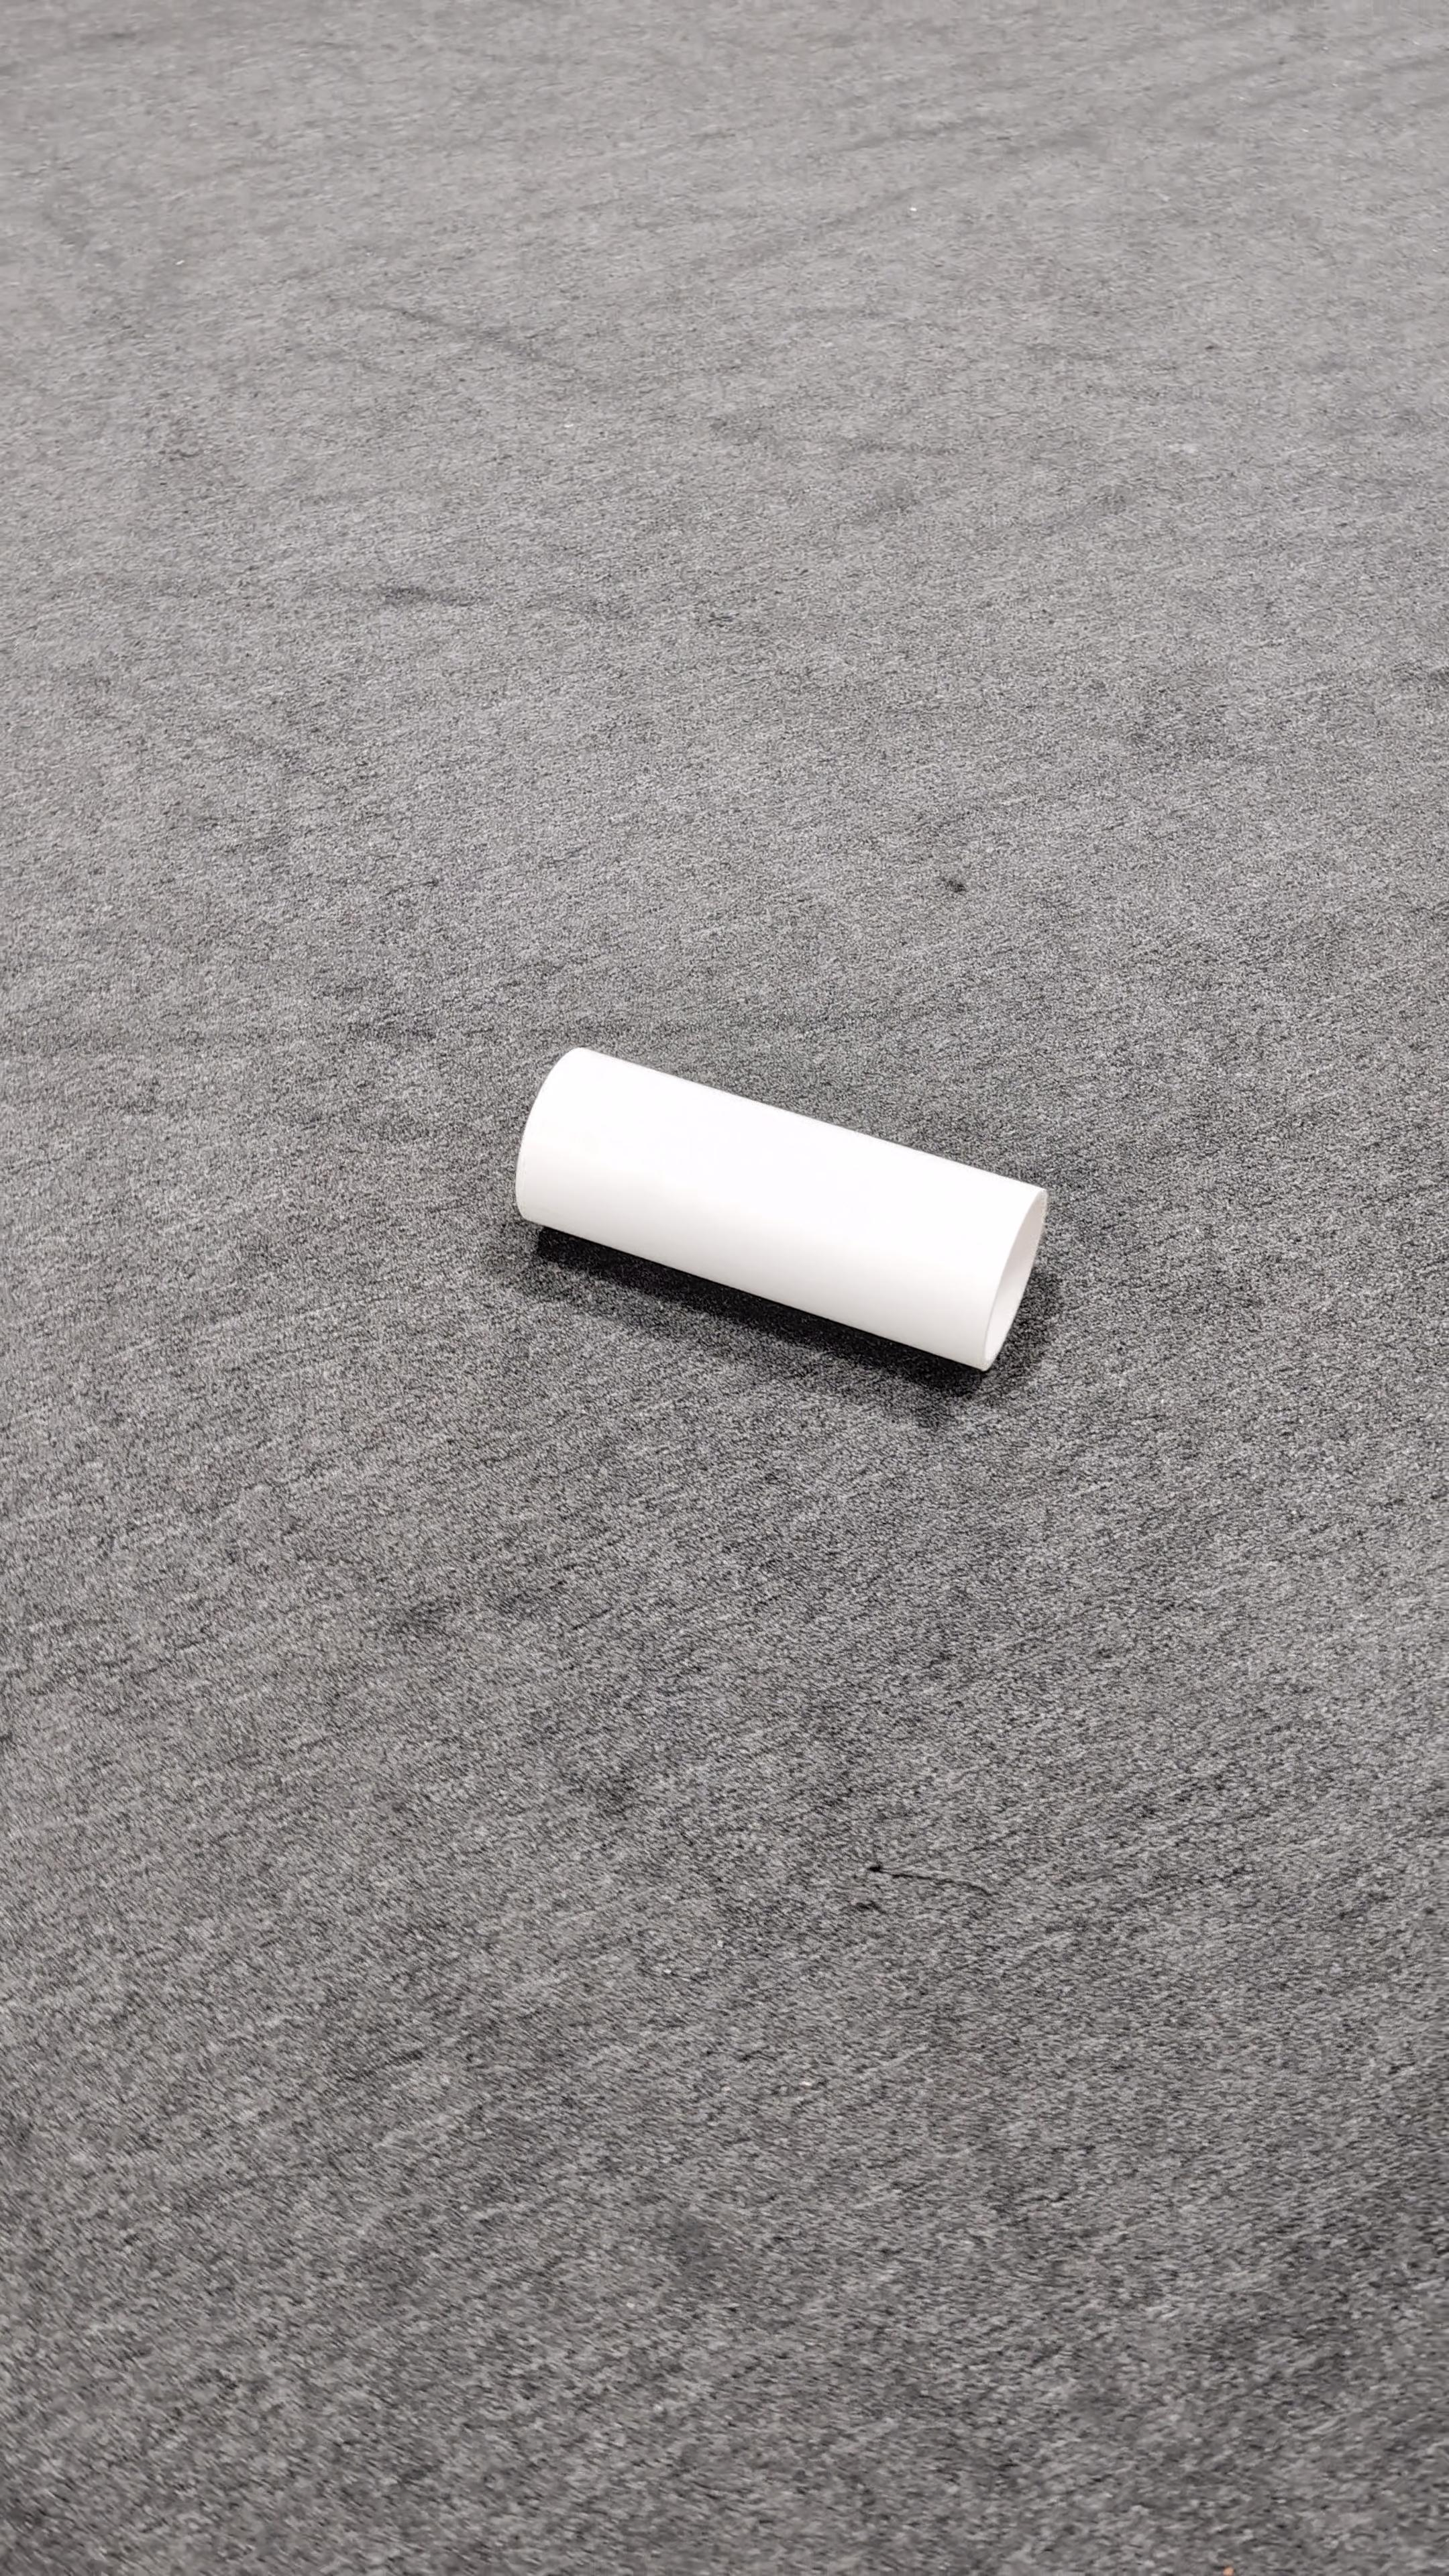coral: (511, 1040, 1051, 1375)
